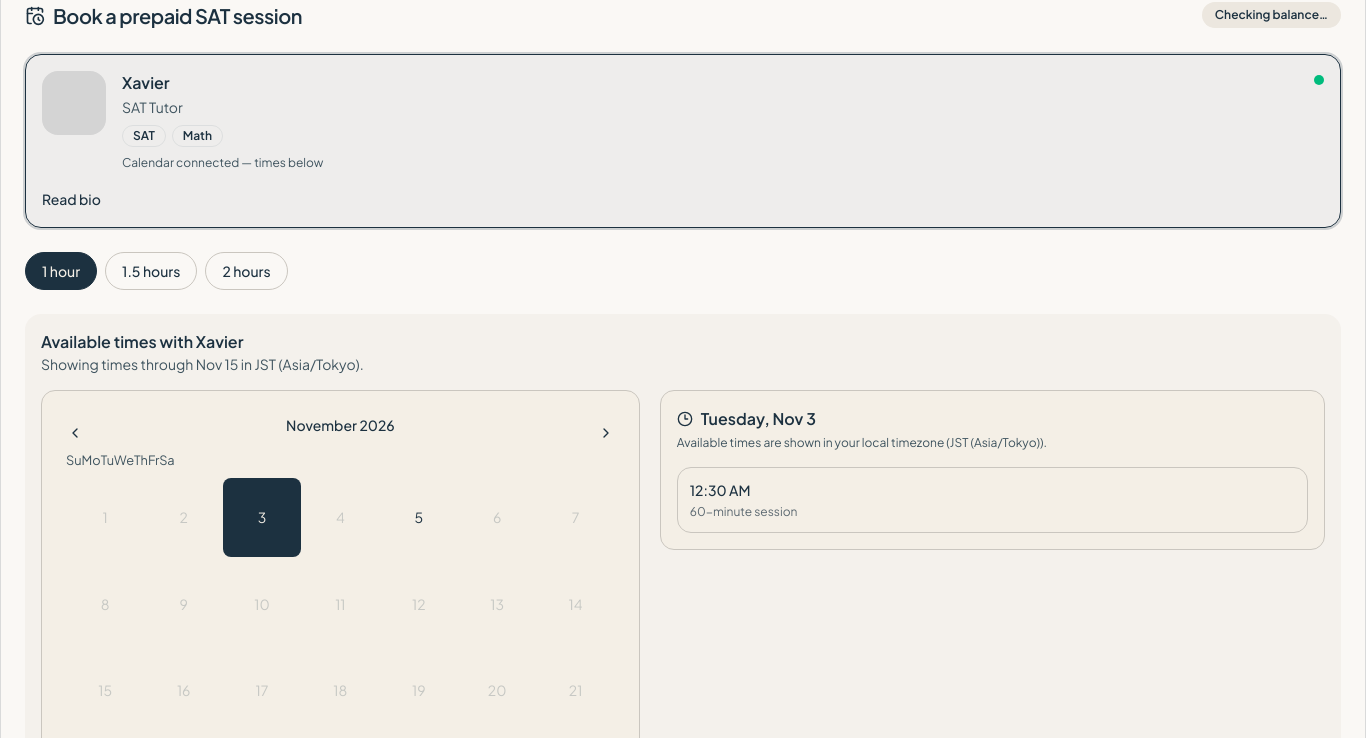
it: client availability calendar › does not treat a reserved prepaid hour as an unpaid purchase
Click the button "Xavier SAT Tutor SAT Math Calendar connected — times below" at (683, 121), box [26,55,1340,187]
(page scrolled)
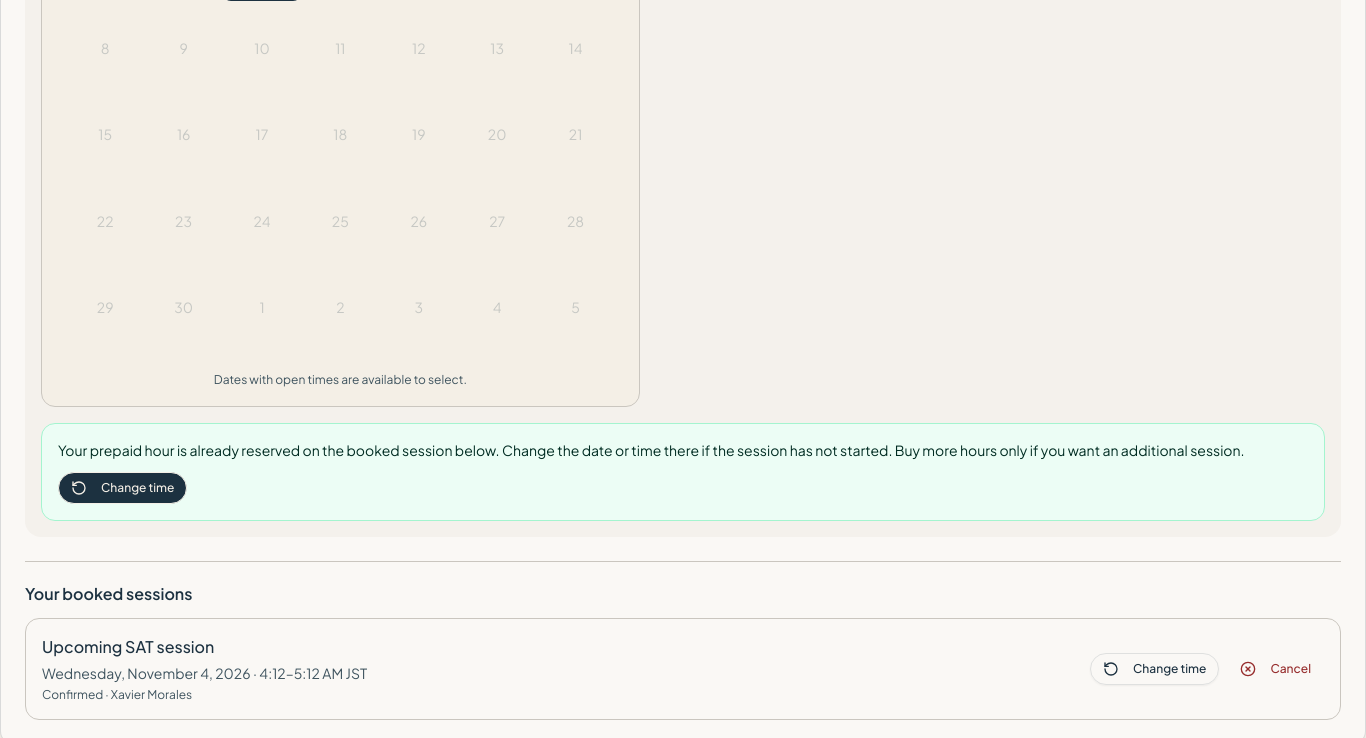
Now the element with test id "booking-credit-reserved" is shown, box [41,423,1325,521]
Now the 1st button "Change time" is shown, box [58,472,188,504]
